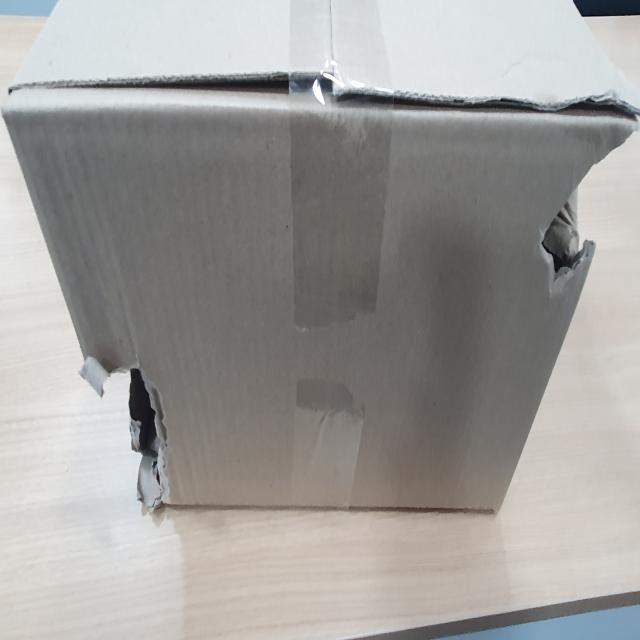hole: (541, 108, 640, 280), (81, 355, 181, 513)
